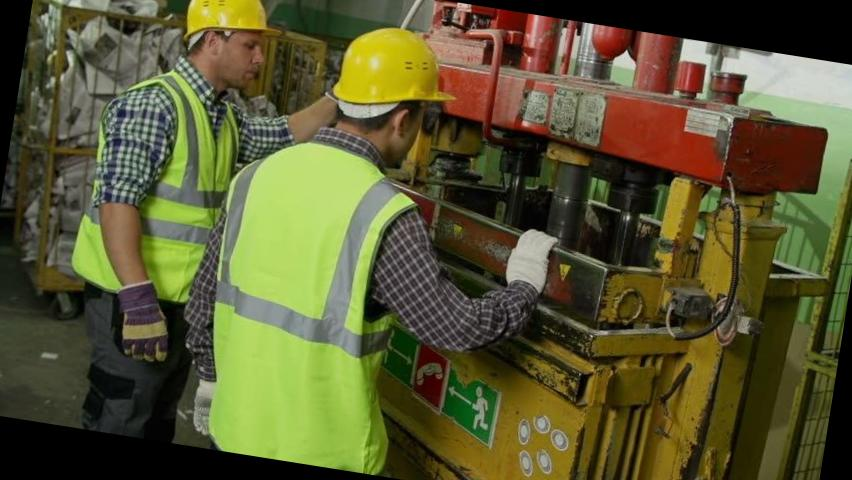Vest: (196, 145, 426, 476), (70, 56, 250, 313)
